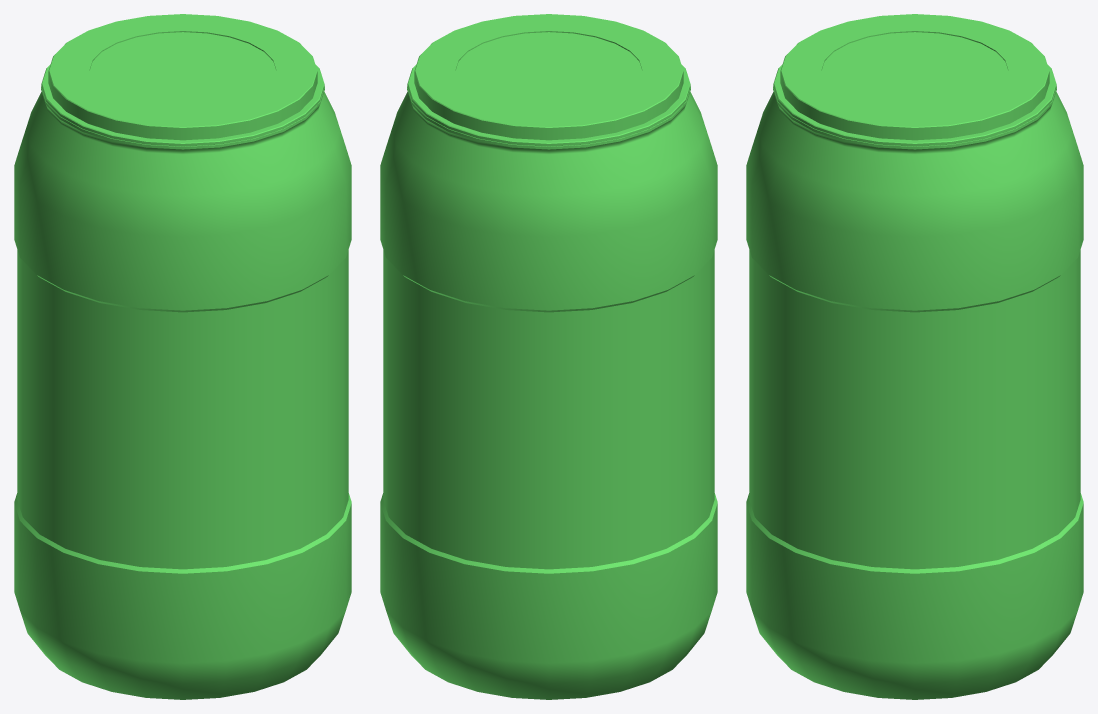
Rendered from waterBarrel.fbx.
3 views of the same model, side by side, from view 1: azimuth 30°, elevation 25°; view 2: azimuth 150°, elevation 25°; view 3: azimuth 270°, elevation 25° (orthographic).
Parts seen in each view (by area): view 1: Water_Barrel; view 2: Water_Barrel; view 3: Water_Barrel.
Part boxes in pixels (<box>): Water_Barrel: <box>14,14,351,699</box>; Water_Barrel: <box>380,14,717,699</box>; Water_Barrel: <box>746,14,1083,699</box>.
Size of the model in its own units: 50 by 93.01 by 50.
